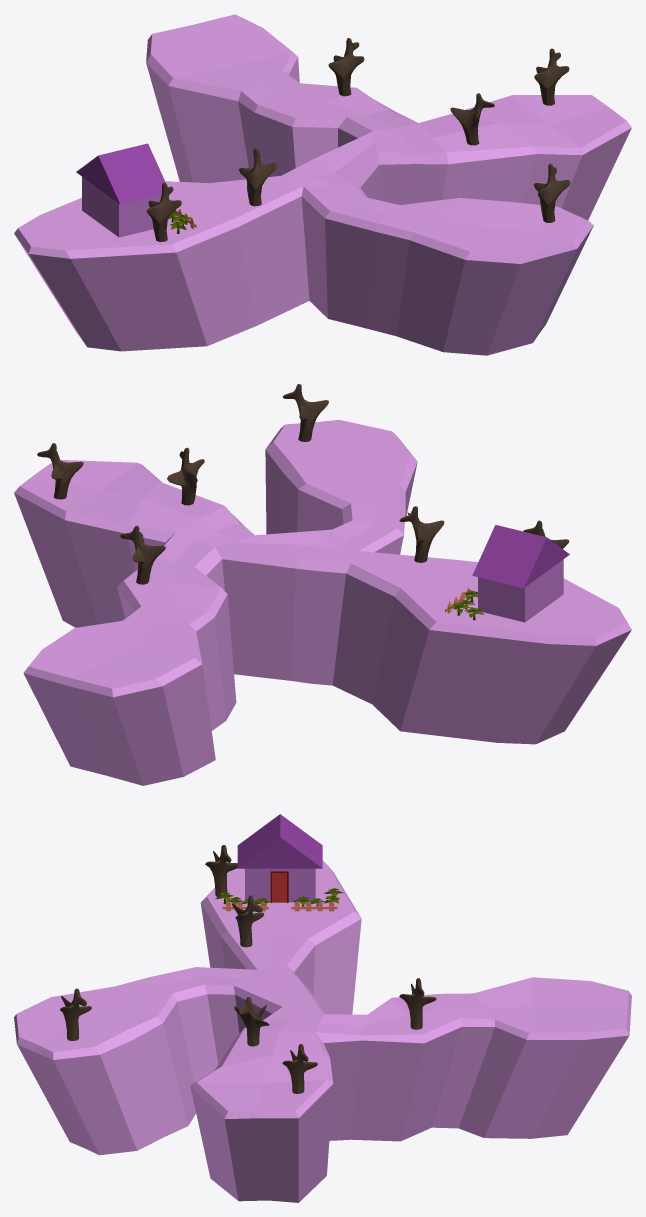
Rendered from dimension.fbx.
The picture shows the model from 3 angles, top to bottom: view 1: azimuth 30°, elevation 25°; view 2: azimuth 150°, elevation 25°; view 3: azimuth 270°, elevation 25°; orthographic projection. The views are drawn at different scales.
Visible parts, largest first — view 1: Plane.004, Cube.014, exit_wall.001, Cube.022, Cube.019, Cube.020, Cube.017, Cube.021, Cube.018; view 2: Plane.004, Cube.014, exit_wall.001, Cube.019, Cube.018, Cube.020, Cube.017, Cube.021; view 3: Plane.004, Cube.014, exit_wall.001, Cube.020, Cube.021, Cube.019, Cube.018, Cube.017, Cube.022, corridor_door_1.
Boxes of the visible parts, box(x1,y1,x2,y2) form: Plane.004: box(14, 14, 631, 355); Cube.014: box(76, 143, 165, 204); exit_wall.001: box(82, 177, 161, 237); Cube.022: box(146, 182, 181, 241); Cube.019: box(328, 38, 364, 96); Cube.020: box(533, 163, 570, 222); Cube.017: box(534, 48, 569, 105); Cube.021: box(239, 148, 277, 206); Cube.018: box(450, 93, 494, 145); Plane.004: box(14, 420, 631, 785); Cube.014: box(472, 525, 569, 588); exit_wall.001: box(478, 559, 563, 622); Cube.019: box(120, 525, 165, 584); Cube.018: box(167, 447, 204, 505); Cube.020: box(283, 384, 328, 441); Cube.017: box(37, 443, 83, 499); Cube.021: box(399, 506, 444, 562); Plane.004: box(14, 860, 631, 1202); Cube.014: box(237, 814, 322, 868); exit_wall.001: box(245, 868, 315, 902); Cube.020: box(60, 988, 91, 1040); Cube.021: box(232, 895, 264, 947); Cube.019: box(399, 978, 436, 1029); Cube.018: box(234, 997, 269, 1046); Cube.017: box(282, 1044, 317, 1093); Cube.022: box(205, 845, 237, 896); corridor_door_1: box(270, 871, 288, 902).
Size of the model in its own units: 6383 by 1968 by 6177.
